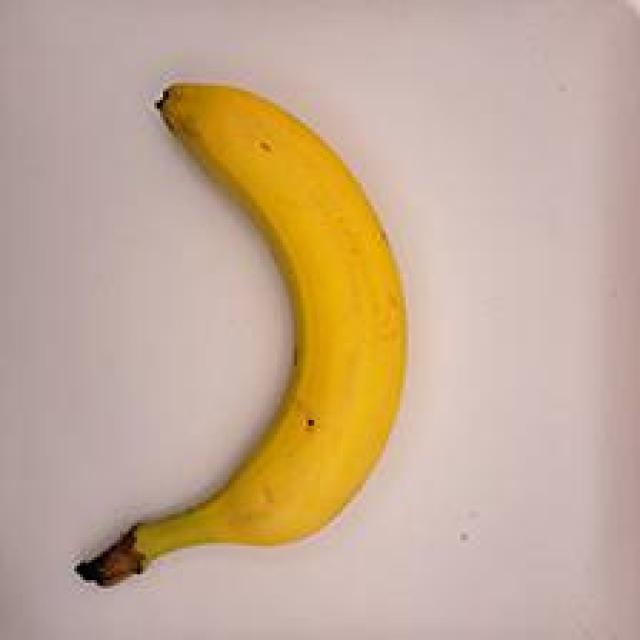Ripe: (36, 67, 443, 620)
